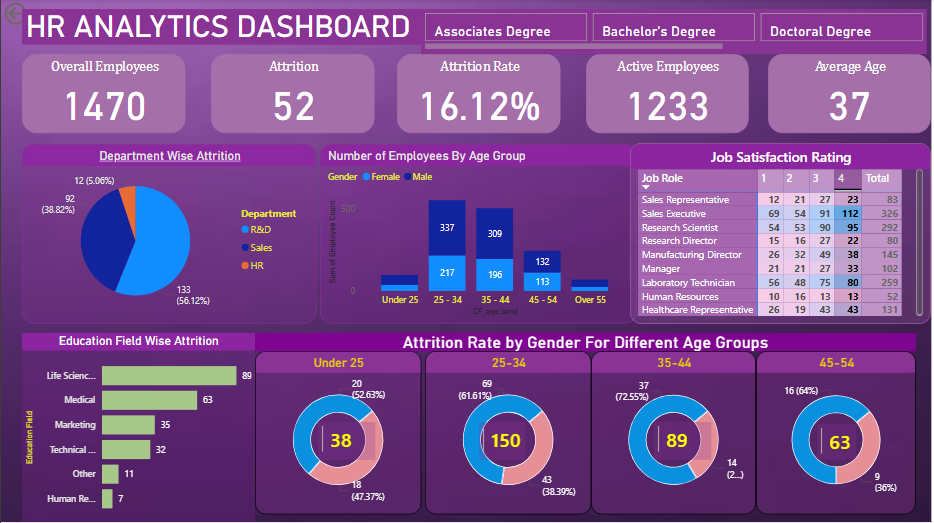

What the dashboard file says about the page in this screenshot:
{"tool":"powerbi","page":{"name":"Page 1","canvas":[1280,720],"ordinal":0},"visuals":[{"type":"card","title":"Overall Employees","fields":{"Values":["Sum(HR data.Employee Count)"]},"box":[28.6,75.7,225.4,109.3],"z":0},{"type":"card","title":"Attrition","fields":{"Values":["Sum(HR data.Attrition Count)"]},"box":[289.3,75.7,225.4,109.3],"z":1000},{"type":"card","title":"Attrition Rate","fields":{"Values":["HR data.Attrition Rate"]},"box":[545,75.7,225.4,109.3],"z":2000},{"type":"actionButton","box":[0,0,100,40],"z":3000},{"type":"card","title":"Active Employees","fields":{"Values":["HR data.Attrition Rate1"]},"box":[805.7,75.7,223.7,109.3],"z":4000},{"type":"card","title":"Average Age","fields":{"Values":["Avg(HR data.Age)"]},"box":[1056.3,75.7,223.7,109.3],"z":5000},{"type":"pieChart","title":"Department Wise Attrition","fields":{"Category":["HR data.Department"],"Y":["Sum(HR data.Attrition Count)"]},"box":[28.6,200.2,405.4,247.3],"z":6000},{"type":"columnChart","title":"Number of Employees By Age Group","fields":{"Category":["HR data.CF_age band"],"Y":["Sum(HR data.Employee Count)"],"Series":["HR data.Gender"]},"box":[439,200.2,435.6,247.3],"z":7000},{"type":"pivotTable","title":"Job Satisfaction Rating","fields":{"Rows":["HR data.Job Role"],"Columns":["HR data.Job Satisfaction"],"Values":["Sum(HR data.Employee Count)"]},"box":[866.2,198.5,413.8,248.9],"z":8000},{"type":"barChart","title":"Education Field Wise Attrition","fields":{"Category":["HR data.Education Field"],"Y":["Sum(HR data.Attrition Count)"]},"box":[28.6,459.2,321.3,260.7],"z":9000},{"type":"donutChart","title":"Under 25","fields":{"Y":["Sum(HR data.Attrition Count)"],"Series":["HR data.CF_age band"],"Category":["HR data.Gender"]},"box":[349.9,484.4,228.8,225.4],"z":10000},{"type":"textbox","title":"Attrition Rate by Gender For Different Age Groups","box":[349.9,459.2,910,25.2],"z":11000},{"type":"donutChart","title":" 25-34","fields":{"Y":["Sum(HR data.Attrition Count)"],"Series":["HR data.CF_age band"],"Category":["HR data.Gender"]},"box":[583.7,484.4,228.8,225.4],"z":12000},{"type":"donutChart","title":"35-44","fields":{"Y":["Sum(HR data.Attrition Count)"],"Series":["HR data.CF_age band"],"Category":["HR data.Gender"]},"box":[812.4,484.4,227.1,225.4],"z":13000},{"type":"donutChart","title":"45-54","fields":{"Y":["Sum(HR data.Attrition Count)"],"Series":["HR data.CF_age band"],"Category":["HR data.Gender"]},"box":[1039.5,484.4,220.3,225.4],"z":14000},{"type":"multiRowCard","fields":{"Values":["Sum(HR data.Attrition Count)"]},"box":[435.6,582,79.1,52.1],"z":14001},{"type":"multiRowCard","fields":{"Values":["Sum(HR data.Attrition Count)"]},"box":[657.7,582,63.9,52.1],"z":14002},{"type":"multiRowCard","fields":{"Values":["Sum(HR data.Attrition Count)"]},"box":[898.2,582,79.1,52.1],"z":14003},{"type":"multiRowCard","fields":{"Values":["Sum(HR data.Attrition Count)"]},"box":[1123.6,585.3,53.8,48.8],"z":14004},{"type":"textbox","title":"HR ANALYTICS DASHBOARD","box":[28.6,13.5,550,48.8],"z":14005},{"type":"advancedSlicerVisual","fields":{"Values":["HR data.Education"]},"box":[578.6,13.5,696.3,62.2],"z":14006}]}

Visuals, with their boxes in screenshot pixels (x1, y1, x2, y2), scaled from the page's 1280x720 canvas onto the 934x523 screenshot:
"Overall Employees" card: {"left": 21, "top": 55, "right": 185, "bottom": 134}
"Attrition" card: {"left": 211, "top": 55, "right": 376, "bottom": 134}
"Attrition Rate" card: {"left": 398, "top": 55, "right": 562, "bottom": 134}
actionButton: {"left": 0, "top": 0, "right": 73, "bottom": 29}
"Active Employees" card: {"left": 588, "top": 55, "right": 751, "bottom": 134}
"Average Age" card: {"left": 771, "top": 55, "right": 933, "bottom": 134}
"Department Wise Attrition" pieChart: {"left": 21, "top": 145, "right": 317, "bottom": 325}
"Number of Employees By Age Group" columnChart: {"left": 320, "top": 145, "right": 638, "bottom": 325}
"Job Satisfaction Rating" pivotTable: {"left": 632, "top": 144, "right": 933, "bottom": 325}
"Education Field Wise Attrition" barChart: {"left": 21, "top": 334, "right": 255, "bottom": 522}
"Under 25" donutChart: {"left": 255, "top": 352, "right": 422, "bottom": 516}
"Attrition Rate by Gender For Different Age Groups" textbox: {"left": 255, "top": 334, "right": 919, "bottom": 352}
" 25-34" donutChart: {"left": 426, "top": 352, "right": 593, "bottom": 516}
"35-44" donutChart: {"left": 593, "top": 352, "right": 759, "bottom": 516}
"45-54" donutChart: {"left": 759, "top": 352, "right": 919, "bottom": 516}
multiRowCard - Sum(HR data.Attrition Count): {"left": 318, "top": 423, "right": 376, "bottom": 461}
multiRowCard - Sum(HR data.Attrition Count): {"left": 480, "top": 423, "right": 527, "bottom": 461}
multiRowCard - Sum(HR data.Attrition Count): {"left": 655, "top": 423, "right": 713, "bottom": 461}
multiRowCard - Sum(HR data.Attrition Count): {"left": 820, "top": 425, "right": 859, "bottom": 461}
"HR ANALYTICS DASHBOARD" textbox: {"left": 21, "top": 10, "right": 422, "bottom": 45}
advancedSlicerVisual - HR data.Education: {"left": 422, "top": 10, "right": 930, "bottom": 55}
